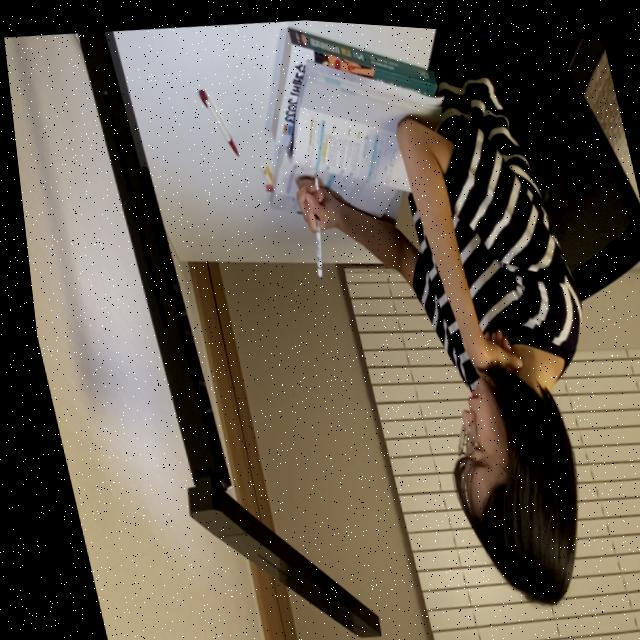studying-person: (222, 12, 629, 633)
